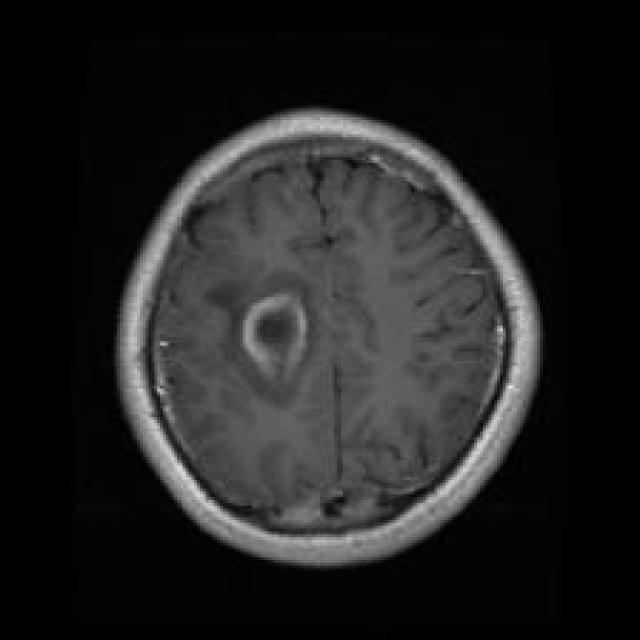glioma_tumor: (210, 265, 326, 411)
